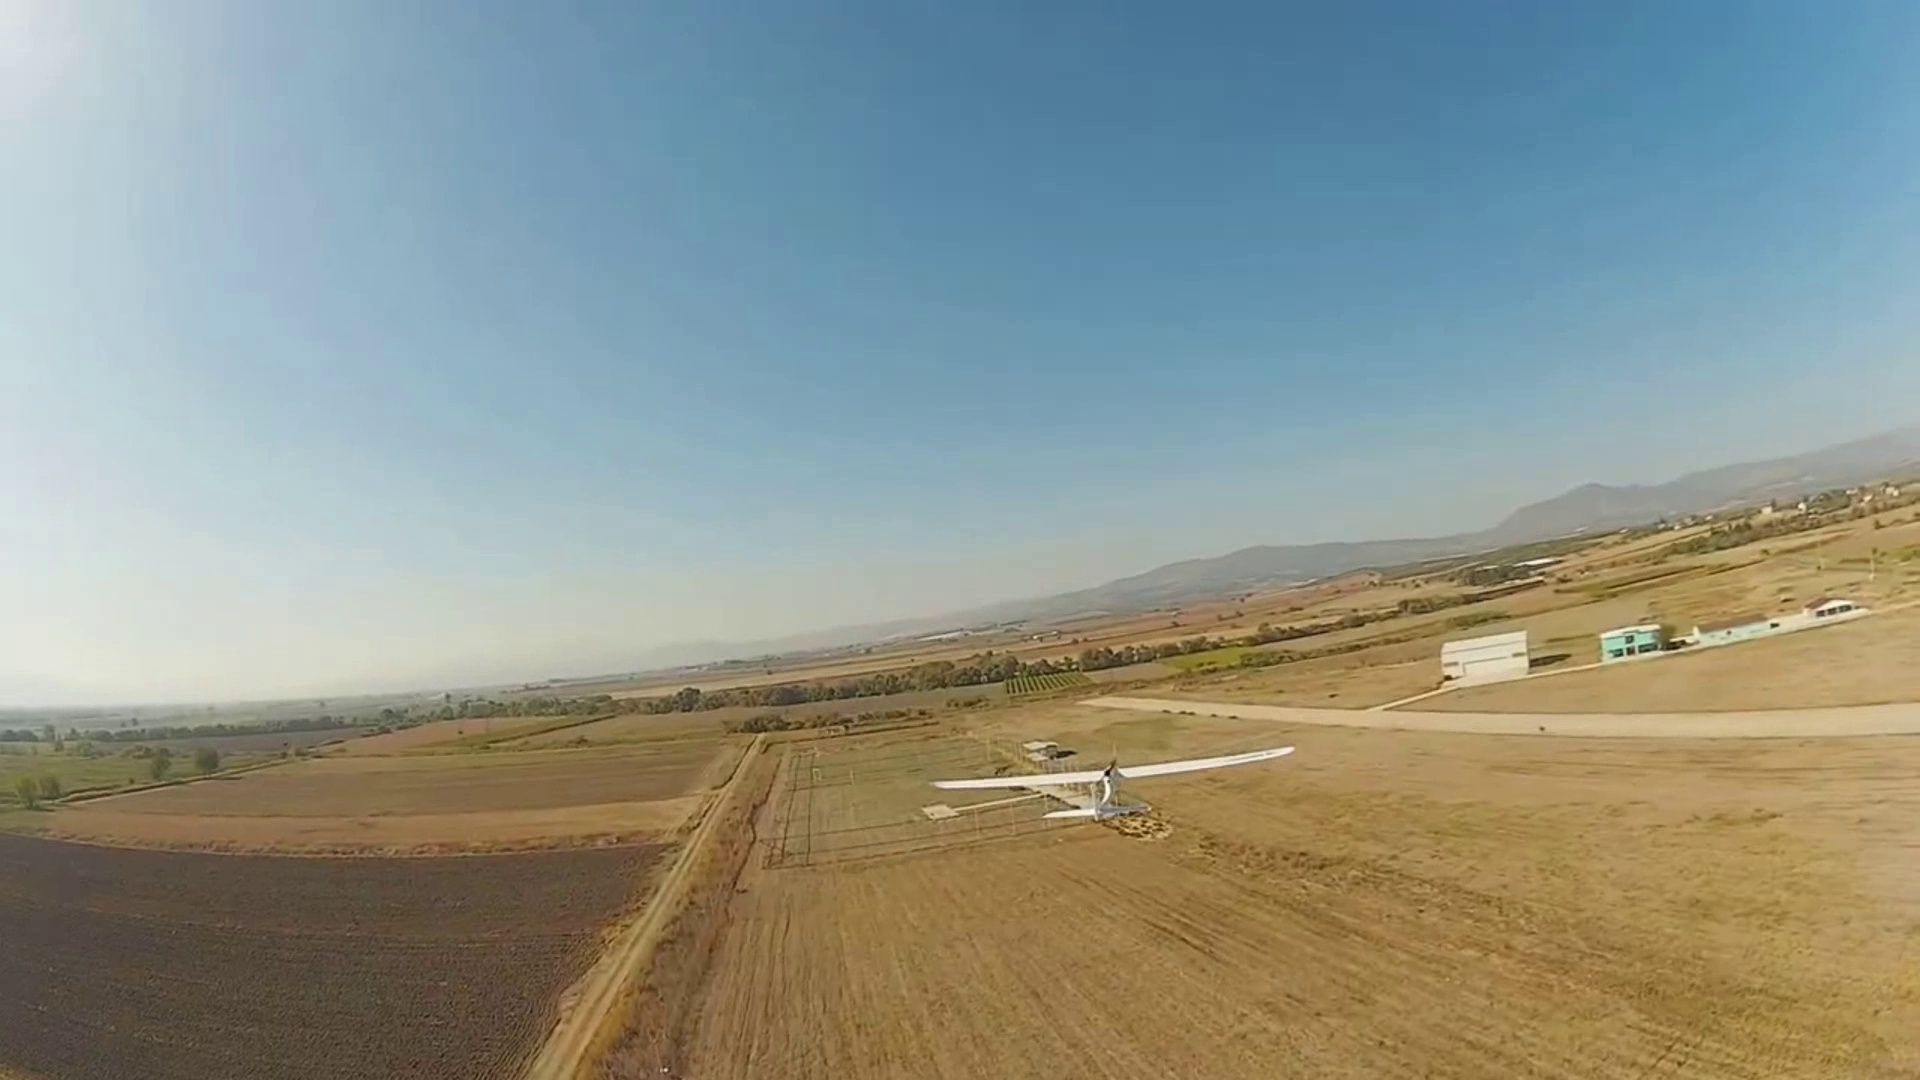airplane: (924, 731, 1299, 824)
